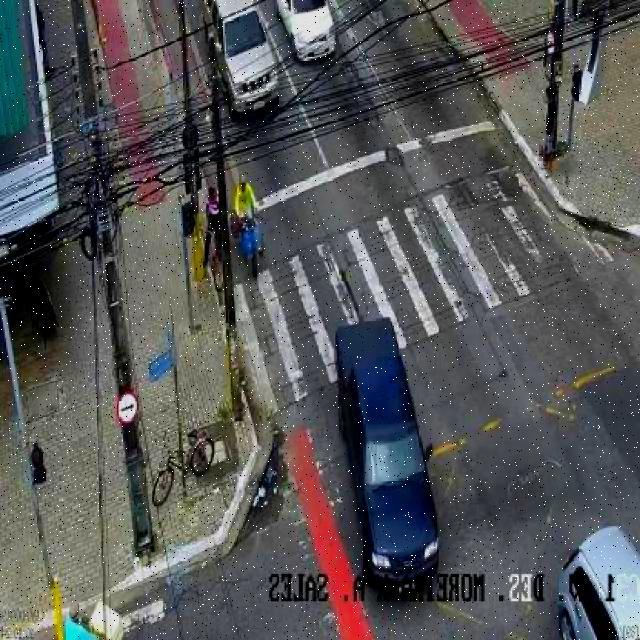Car: (555, 525, 640, 640), (210, 0, 281, 117), (276, 0, 341, 59)
Cycle: (152, 429, 215, 508)
Truck: (332, 318, 442, 589)
